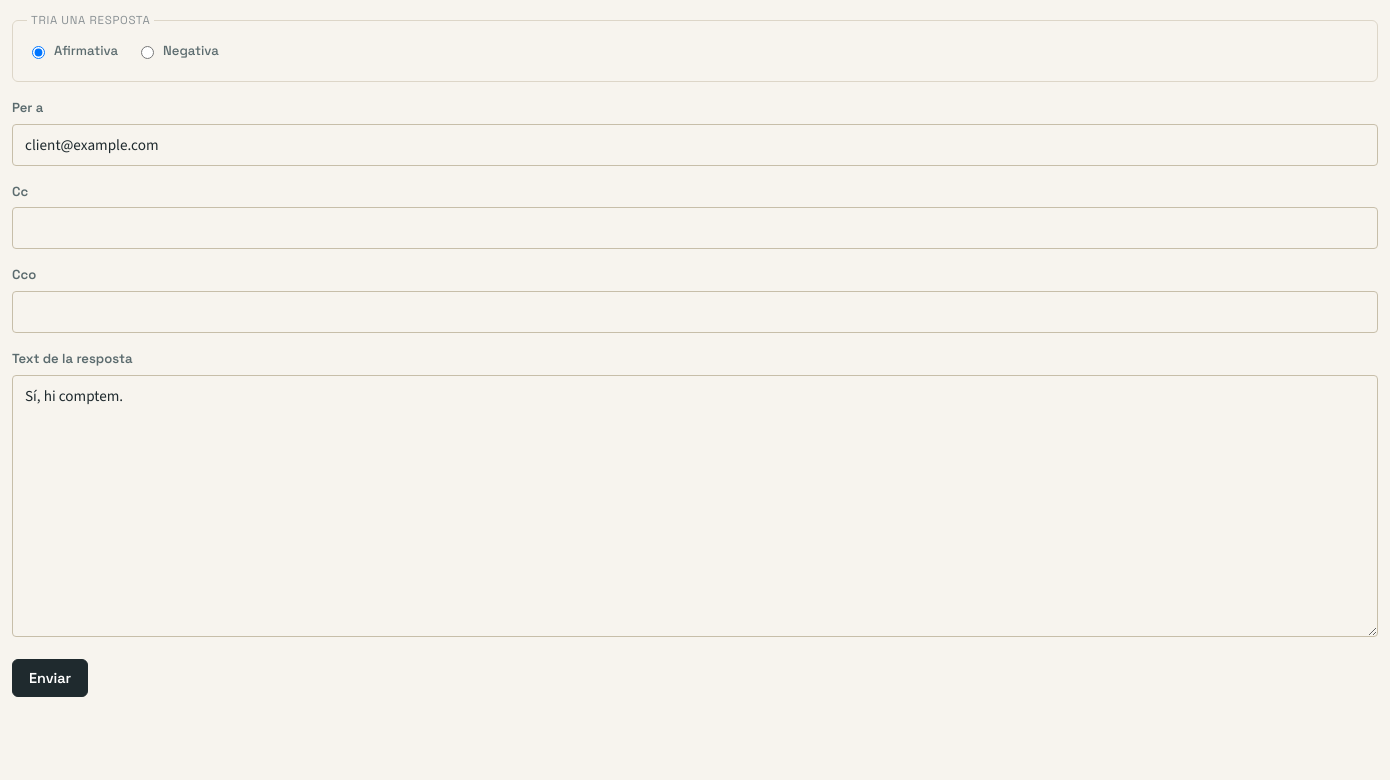
it: DraftOptionsForm › keeps the form blocked while the send is still in flight
Click the button "Enviar" at (50, 678), box [12,659,88,697]
Wait 7000 ms
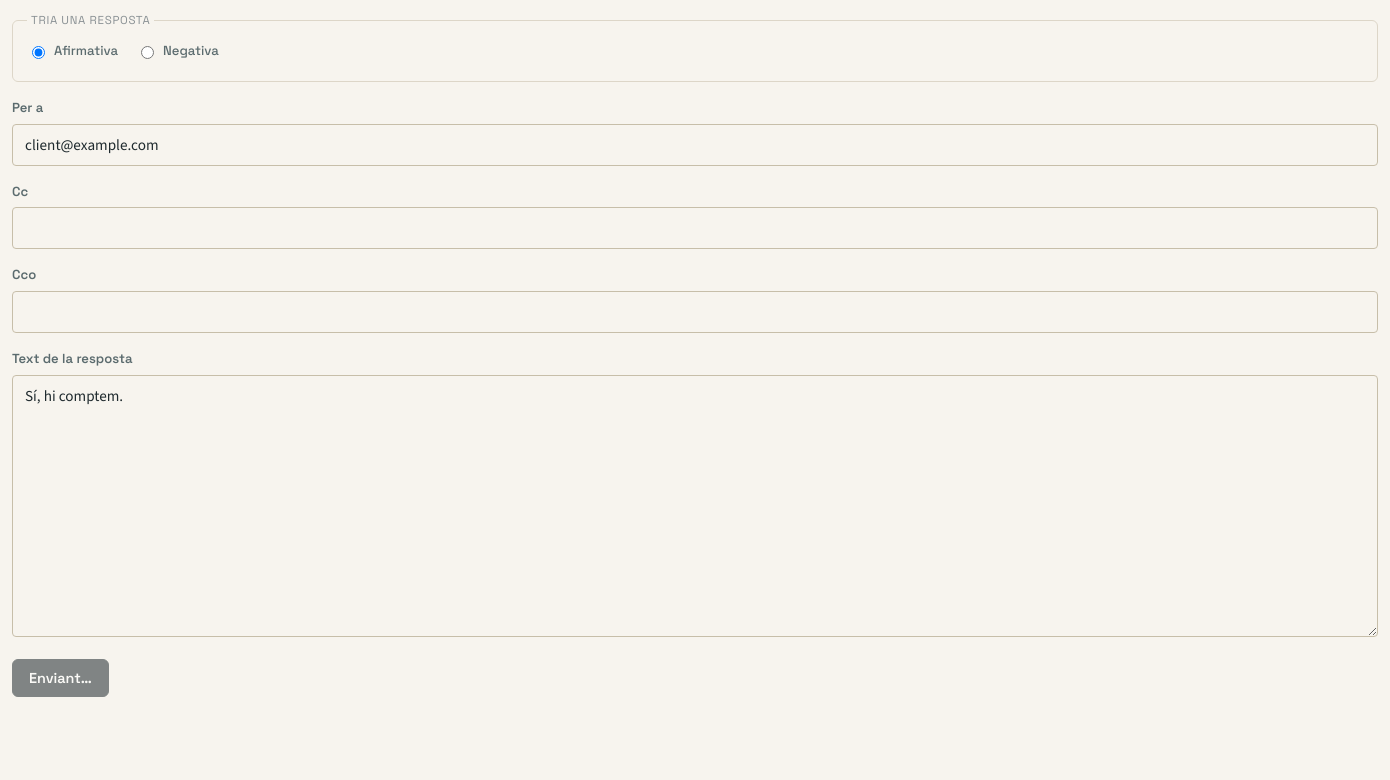
Expected: the button "Enviant…" is disabled, [12,659,109,697]
